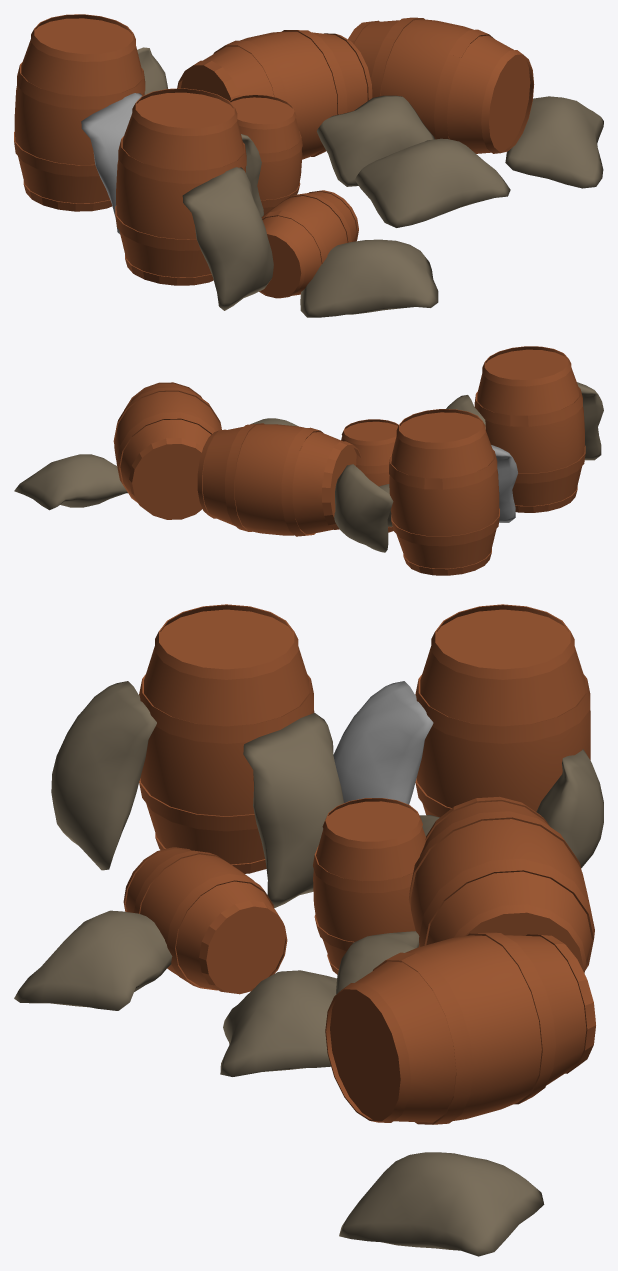
File: mutongdui4.FBX
3 renders of one model, top to bottom at view 1: azimuth 30°, elevation 25°; view 2: azimuth 150°, elevation 25°; view 3: azimuth 270°, elevation 25°, orthographic. The views are drawn at different scales.
Visible parts, largest first — view 1: c148, c145, c141, c142, c09, c12, c146, c10, c08, c140, c11, c06 (+2 smaller); view 2: c148, c142, c145, c141, c08, c147, c11, c146, c06, c144; view 3: c141, c145, c148, c142, c10, c08, c11, c146, c144, c12, c09, c06 (+2 smaller).
Part boxes in pixels (x1,y1,x2,y2): c148: (14,14,145,211); c145: (115,88,246,285); c141: (348,17,534,153); c142: (177,30,372,159); c09: (355,138,510,227); c12: (300,239,438,317); c146: (182,167,273,310); c10: (259,190,358,298); c08: (505,96,603,188); c140: (317,95,434,186); c11: (229,94,302,214); c06: (81,93,142,234); c148: (389,409,499,575); c142: (197,423,361,536); c145: (474,346,585,512); c141: (113,382,221,519); c08: (14,454,127,510); c147: (334,464,393,552); c11: (341,419,398,532); c146: (577,382,603,460); c06: (491,445,517,522); c144: (446,395,485,429); c141: (325,932,595,1124); c145: (139,604,314,873); c148: (415,604,590,817); c142: (408,796,594,973); c10: (123,847,287,994); c08: (339,1152,544,1256); c11: (313,798,425,974); c146: (51,681,156,870); c144: (243,713,343,907); c12: (14,910,172,1010); c09: (220,970,336,1076); c06: (333,681,433,804).
Size of the model in its own units: 2.56 by 0.953 by 1.68.
